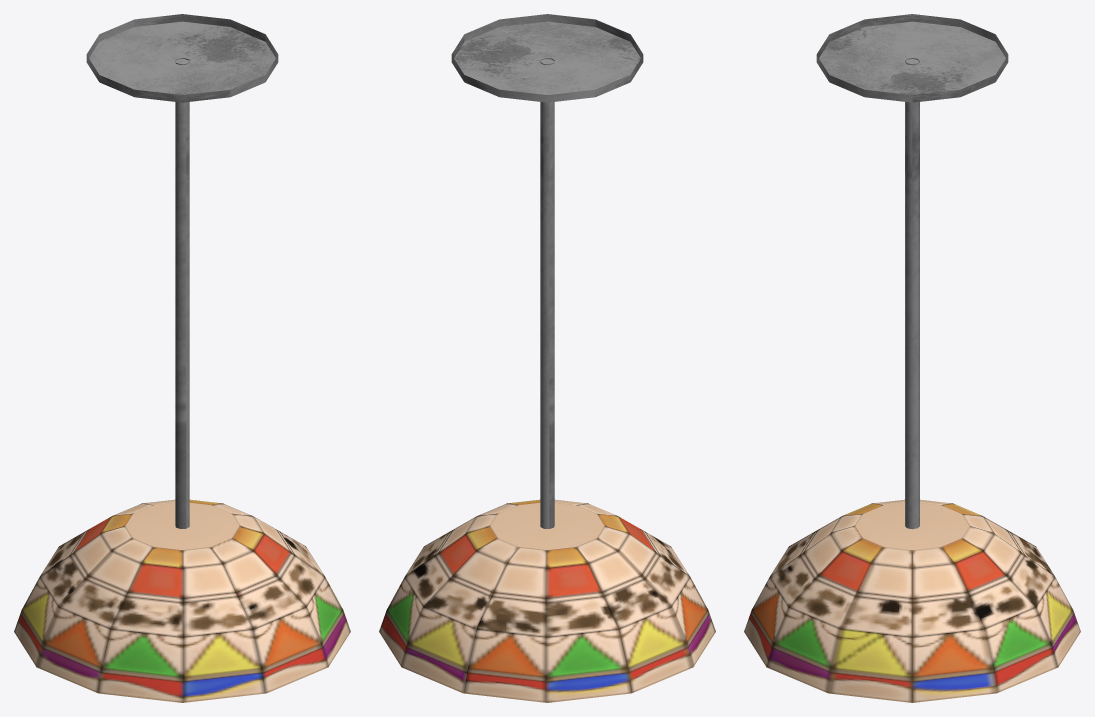
The model's file is Tiffany Lamp.fbx.
The picture shows the model from 3 angles, left to right: view 1: azimuth 30°, elevation 25°; view 2: azimuth 150°, elevation 25°; view 3: azimuth 270°, elevation 25°; orthographic projection.
Visible parts, largest first — view 1: Tiffany Lamp; view 2: Tiffany Lamp; view 3: Tiffany Lamp.
Part boxes in pixels (left/top/right/bottom): Tiffany Lamp: left=14, top=14, right=350, bottom=702; Tiffany Lamp: left=379, top=14, right=715, bottom=702; Tiffany Lamp: left=744, top=14, right=1080, bottom=702.
Bounding box in the file's own units: 60.3 × 114 × 60.3.
